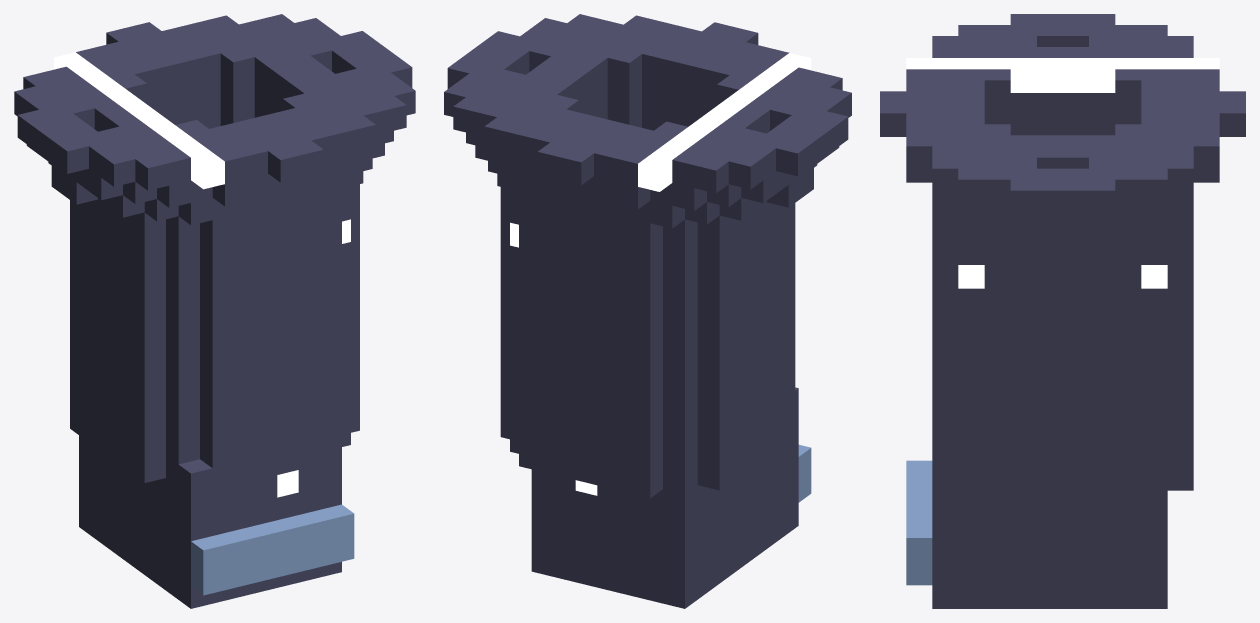
File: mystic_rare_glove_L.glb
The picture shows the model from 3 angles, left to right: view 1: azimuth 30°, elevation 25°; view 2: azimuth 150°, elevation 25°; view 3: azimuth 270°, elevation 25°; orthographic projection. The views are drawn at different scales.
Parts seen in each view (by area): view 1: mystic_rare_glove_L; view 2: mystic_rare_glove_L; view 3: mystic_rare_glove_L.
Boxes of the visible parts, x1,y1,x2,y2 form: mystic_rare_glove_L: [14, 14, 415, 608]; mystic_rare_glove_L: [444, 14, 851, 608]; mystic_rare_glove_L: [880, 14, 1245, 608].
Size of the model in its own units: 0.192 by 0.24 by 0.168.
